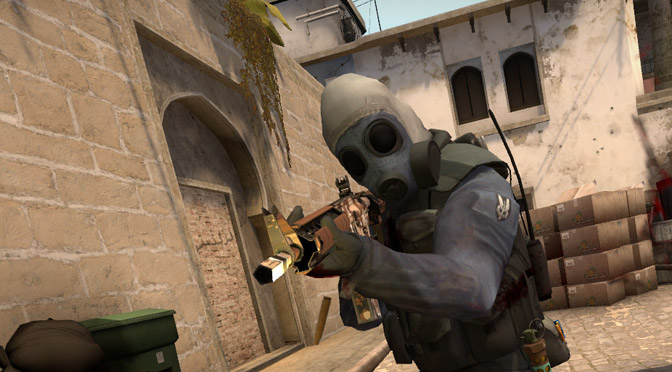c: (310, 68, 537, 372)
ch: (320, 73, 441, 203)
